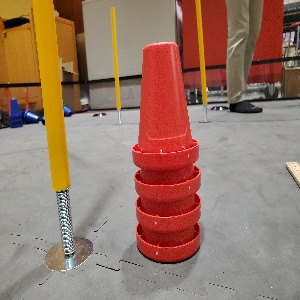Red_4: (134, 41, 200, 262)
